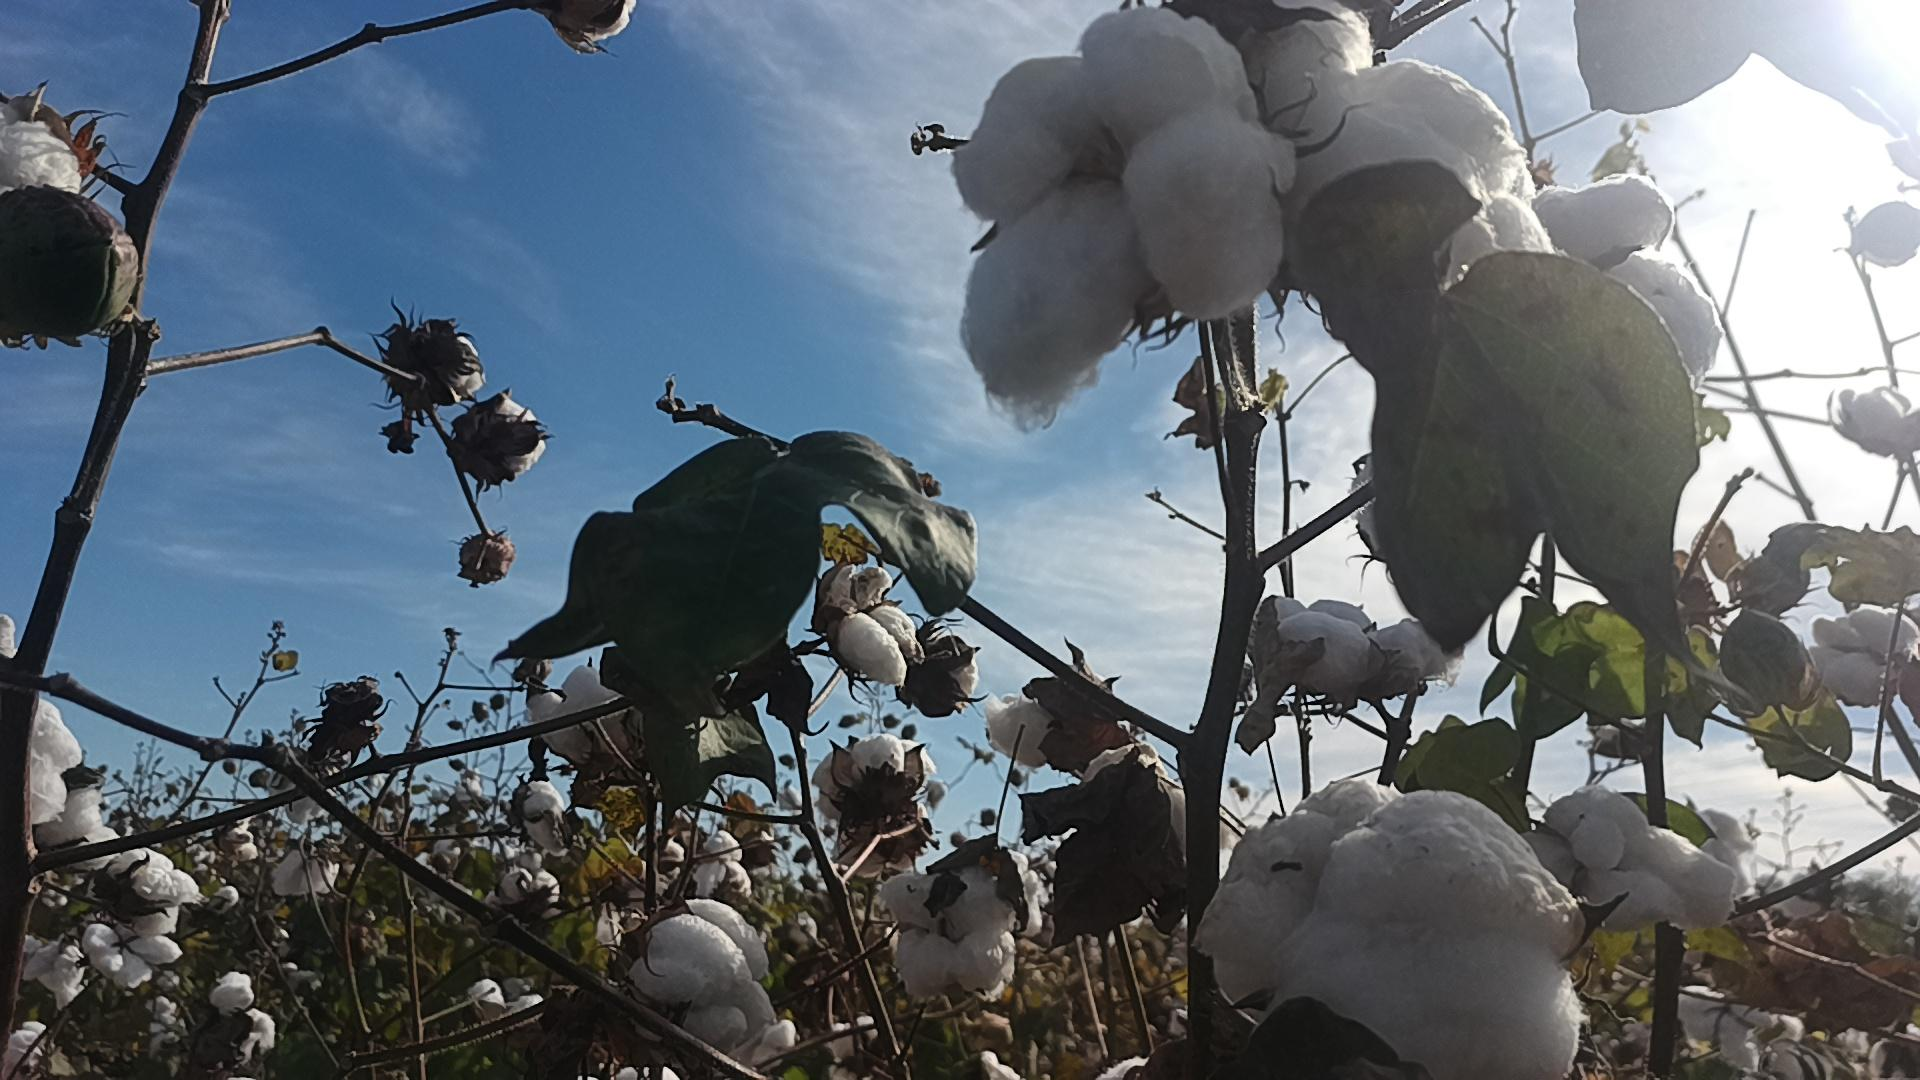cotton_ready: (961, 8, 1291, 433), (1201, 786, 1581, 1080), (1259, 0, 1568, 293), (1534, 181, 1724, 369), (1534, 785, 1738, 943), (1266, 585, 1456, 691), (638, 903, 775, 1047), (0, 616, 83, 824), (882, 873, 1018, 998), (818, 736, 931, 847), (812, 564, 918, 680), (527, 665, 646, 767), (1677, 978, 1805, 1072), (1093, 741, 1193, 849), (1808, 611, 1912, 700), (0, 98, 88, 200), (82, 913, 183, 992), (903, 622, 977, 719), (102, 847, 203, 915), (988, 698, 1084, 767), (469, 400, 550, 480), (1838, 390, 1920, 462), (406, 335, 488, 396)
